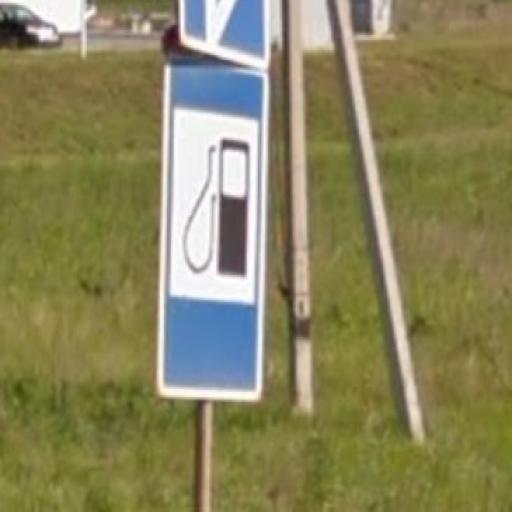traffic_sign: (157, 51, 272, 405)
